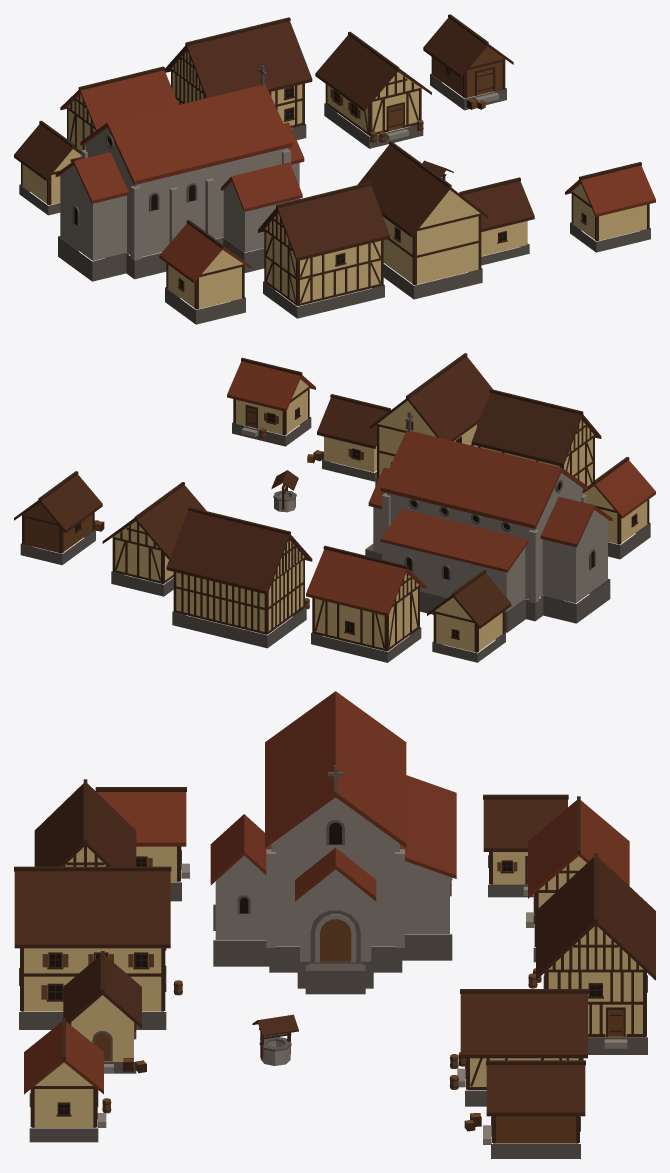
Rendered from Villa.glb.
The picture shows the model from 3 angles, top to bottom: view 1: azimuth 30°, elevation 25°; view 2: azimuth 150°, elevation 25°; view 3: azimuth 270°, elevation 25°; orthographic projection. The views are drawn at different scales.
Visible parts, largest first — view 1: Iglesia, CasaEntramado, CasaGrande, CasaLarga, Galpon, CasaPequena1, CasaPequena3, Establo, CasaTrasera, CasaAnexo, CasaPequena2; view 2: Iglesia, CasaLarga, CasaTrasera, CasaEntramado, CasaGrande, Galpon, CasaPequena3, Establo, CasaPequena2, CasaAnexo, CasaPequena1, Pozo; view 3: Iglesia, CasaGrande, CasaLarga, Galpon, Establo, CasaPequena3, CasaTrasera, CasaEntramado, CasaAnexo, CasaPequena2, CasaPequena1, Pozo (+1 smaller).
Part boxes in pixels (box(x1,y1,x2,y2)): Iglesia: box(55, 65, 304, 281); CasaEntramado: box(258, 182, 389, 318); CasaGrande: box(357, 141, 488, 299); CasaLarga: box(164, 17, 312, 140); Galpon: box(315, 31, 431, 148); CasaPequena1: box(159, 220, 251, 324); CasaPequena3: box(565, 162, 655, 252); Establo: box(423, 14, 513, 110); CasaTrasera: box(60, 66, 178, 150); CasaAnexo: box(459, 177, 534, 265); CasaPequena2: box(14, 120, 81, 215); Iglesia: box(365, 411, 612, 632); CasaLarga: box(166, 507, 312, 648); CasaTrasera: box(306, 545, 426, 662); CasaEntramado: box(471, 389, 601, 489); CasaGrande: box(370, 353, 492, 486); Galpon: box(102, 482, 206, 596); CasaPequena3: box(227, 357, 315, 446); Establo: box(14, 471, 102, 565); CasaPequena2: box(427, 570, 511, 662); CasaAnexo: box(317, 394, 390, 481); CasaPequena1: box(582, 457, 655, 559); Pozo: box(271, 470, 298, 512); Iglesia: box(210, 691, 456, 994); CasaGrande: box(14, 866, 171, 1029); CasaLarga: box(536, 853, 655, 1054); Galpon: box(457, 989, 588, 1106); Establo: box(483, 1060, 585, 1158); CasaPequena3: box(24, 1018, 106, 1142); CasaTrasera: box(526, 796, 629, 962); CasaEntramado: box(34, 779, 136, 866); CasaAnexo: box(63, 951, 141, 1073); CasaPequena2: box(483, 794, 568, 897); CasaPequena1: box(95, 787, 189, 901); Pozo: box(252, 1014, 298, 1065).
Size of the model in its own units: 52.7 by 16.22 by 44.9.
